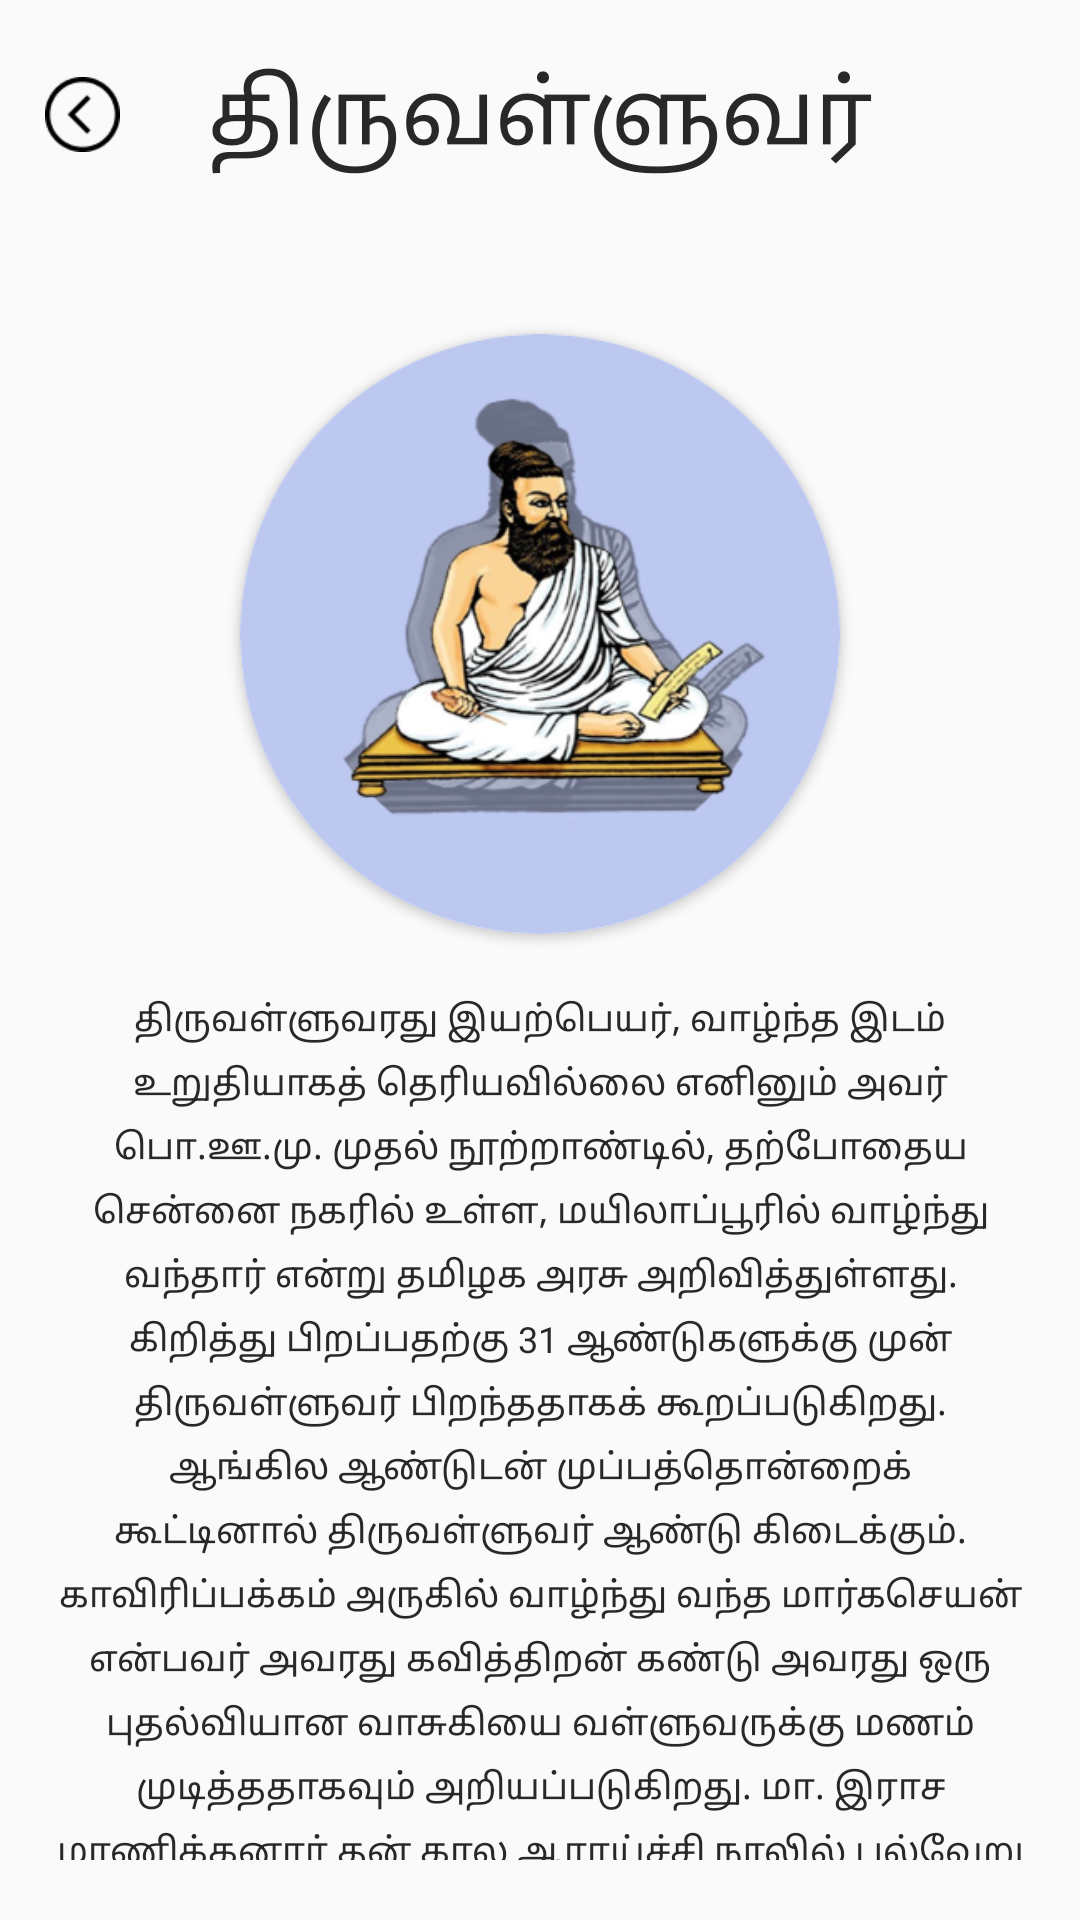

Point at icon controls on the screen. Image size 1080px x 1920px, points as point (x, y).
back: point (82, 114)
